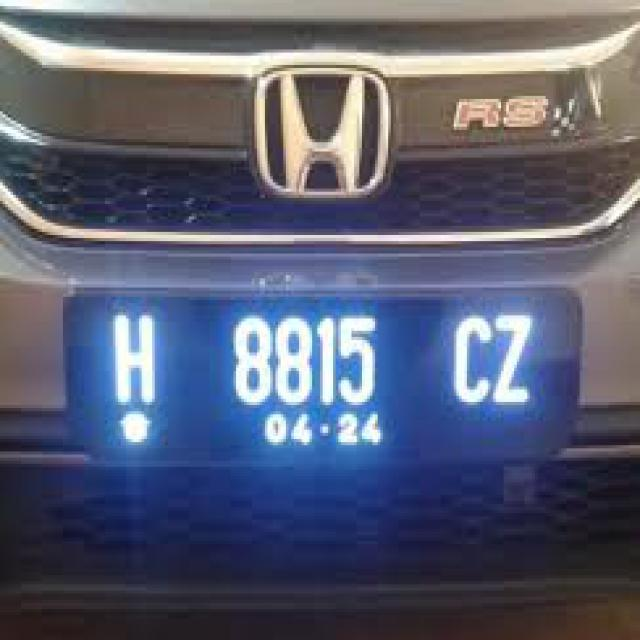clone-license-plate: (86, 302, 547, 444)
